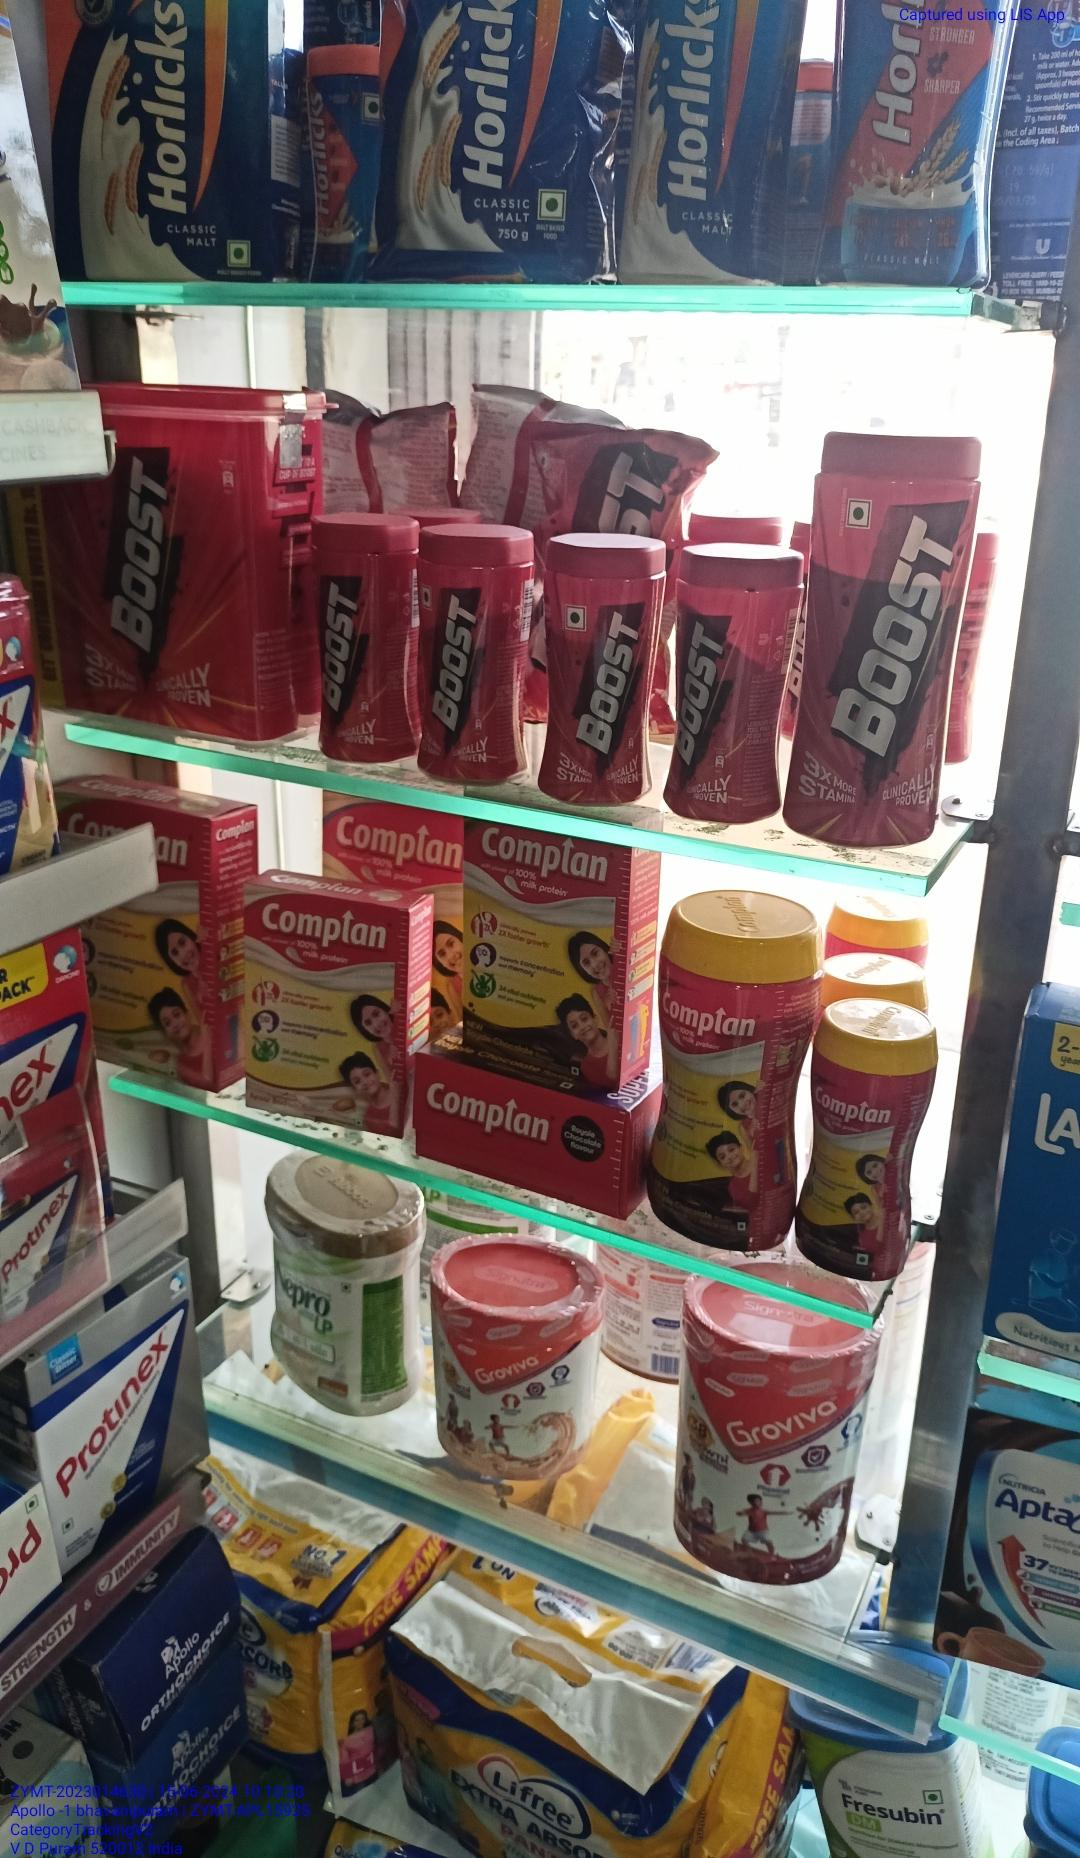COMPLAN_CHOCOLATE_200_GMS_JAR: (805, 1011, 928, 1277)
COMPLAN_CHOCOLATE_200_GMS_PACK: (460, 824, 622, 1092)
COMPLAN_CHOCOLATE_500_GMS_JAR: (654, 910, 791, 1250)
COMPLAN_KESAR_BADAM_200_GMS_PACK: (239, 890, 406, 1129)
HORLICK_CLASSIC_MALT_200_G_JAR: (302, 44, 373, 283)
